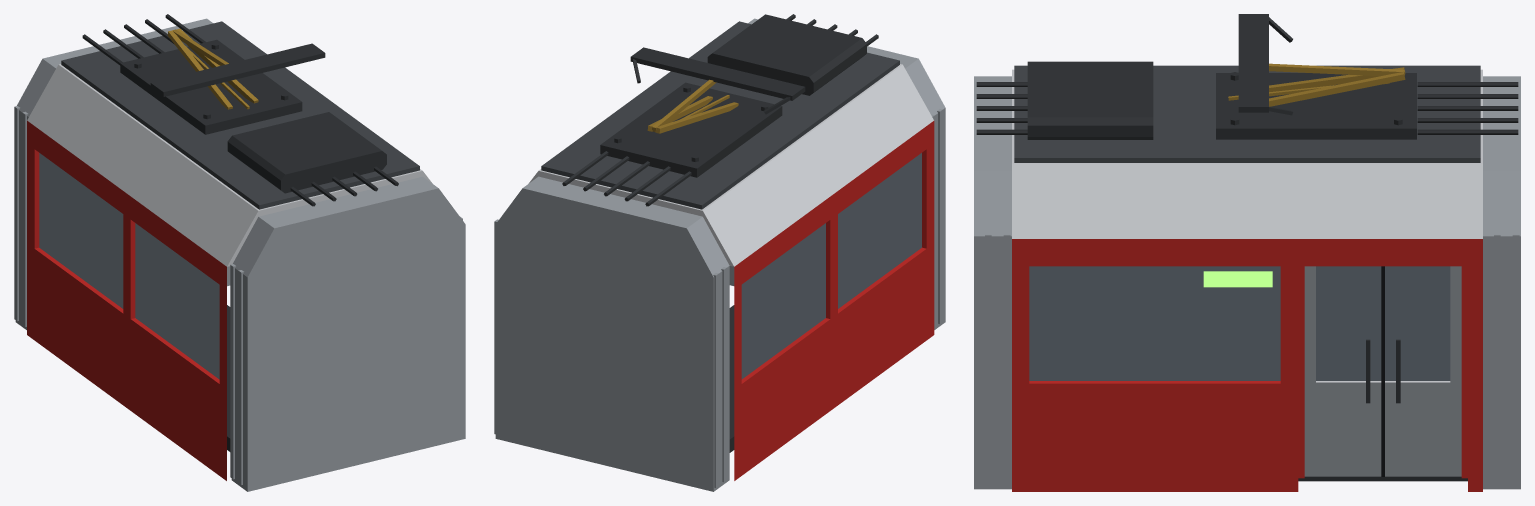
3 renders of one model, left to right at view 1: azimuth 30°, elevation 25°; view 2: azimuth 150°, elevation 25°; view 3: azimuth 270°, elevation 25°, orthographic. The views are drawn at different scales.
Parts seen in each view (by area): view 1: 14t-b; view 2: 14t-b; view 3: 14t-b.
Boxes of the visible parts, box(x1,y1,x2,y2) form: 14t-b: box(14, 14, 465, 491); 14t-b: box(494, 14, 945, 491); 14t-b: box(974, 14, 1520, 491).
Size of the model in its own units: 2.46 by 3.36 by 4.35.
